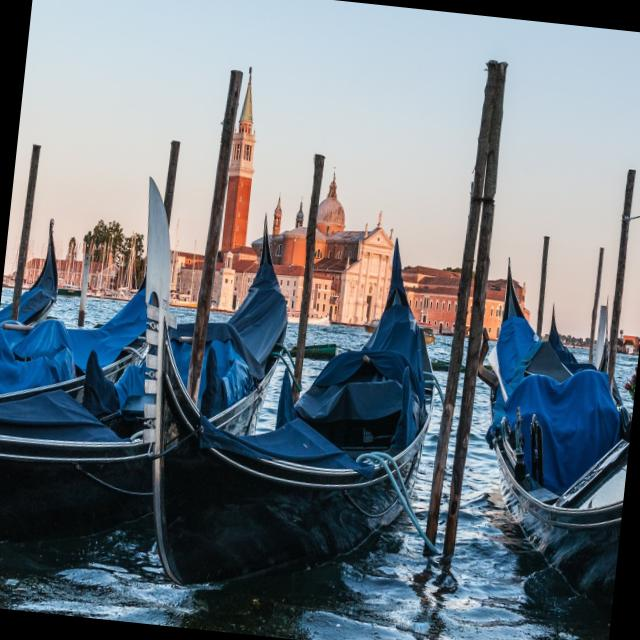boat: (94, 129, 477, 632), (0, 207, 296, 544), (444, 208, 640, 621)
